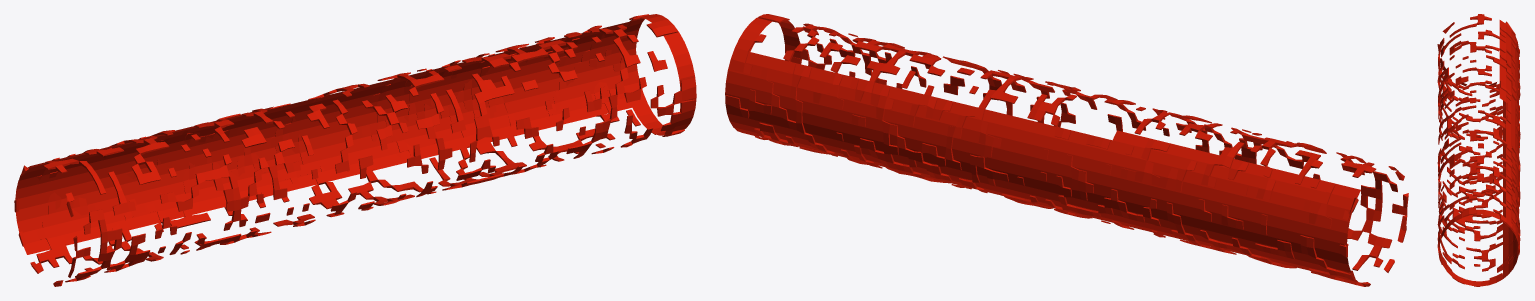
The model's file is Abstract Cylinder2.fbx.
The picture shows the model from 3 angles, left to right: view 1: azimuth 30°, elevation 25°; view 2: azimuth 150°, elevation 25°; view 3: azimuth 270°, elevation 25°; orthographic projection. The views are drawn at different scales.
Parts seen in each view (by area): view 1: Cylinder, Cylinder.001; view 2: Cylinder.001, Cylinder; view 3: Cylinder, Cylinder.001.
Part boxes in pixels (x1=…): Cylinder: x1=14, y1=14, x2=695, y2=286; Cylinder.001: x1=15, y1=14, x2=696, y2=254; Cylinder.001: x1=725, y1=17, x2=1360, y2=282; Cylinder: x1=725, y1=14, x2=1408, y2=286; Cylinder: x1=1437, y1=14, x2=1520, y2=286; Cylinder.001: x1=1439, y1=20, x2=1518, y2=286.
Size of the model in its own units: 4.39 by 0.7662 by 0.7674.
